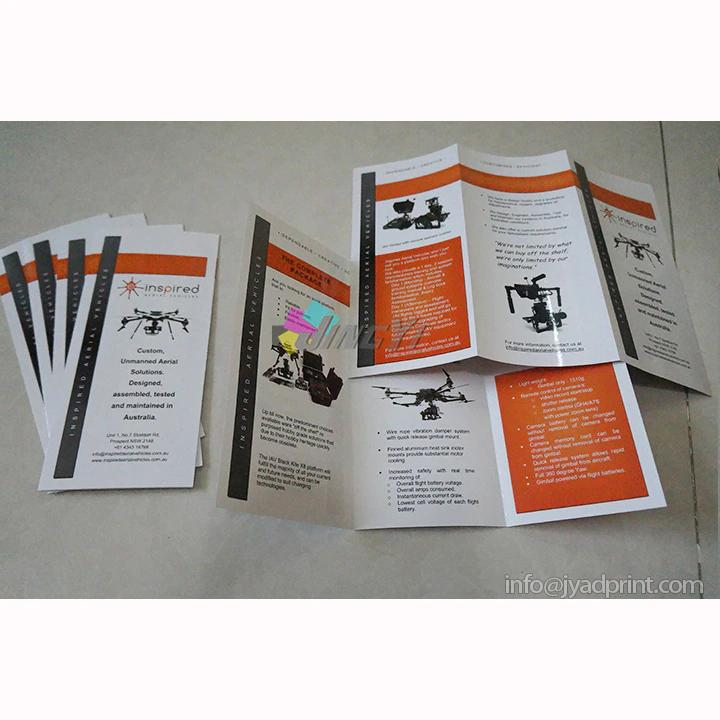cardboard: (0, 215, 217, 489), (450, 151, 619, 365), (580, 170, 709, 393), (354, 145, 474, 368)
paper: (250, 360, 664, 527)
